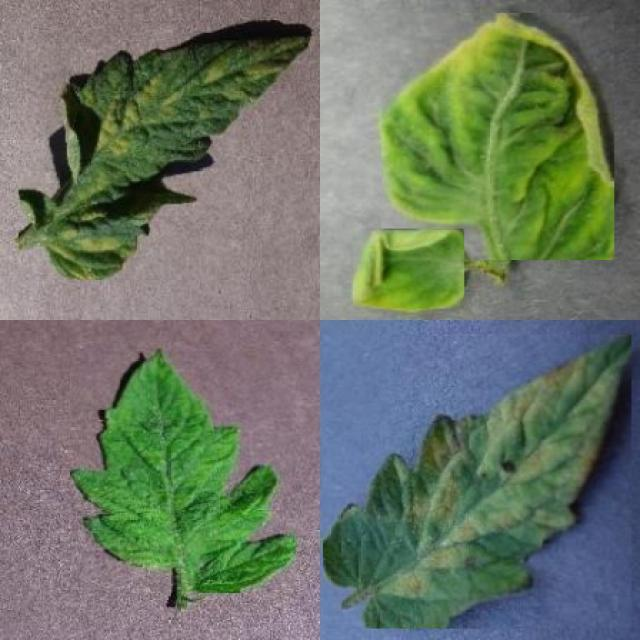Leaf Mold: (323, 334, 631, 629), (19, 32, 308, 280)
Mosaic Virus: (70, 348, 296, 593)
Yellow Leaf Curl Virus: (382, 13, 614, 260), (353, 230, 464, 310)
